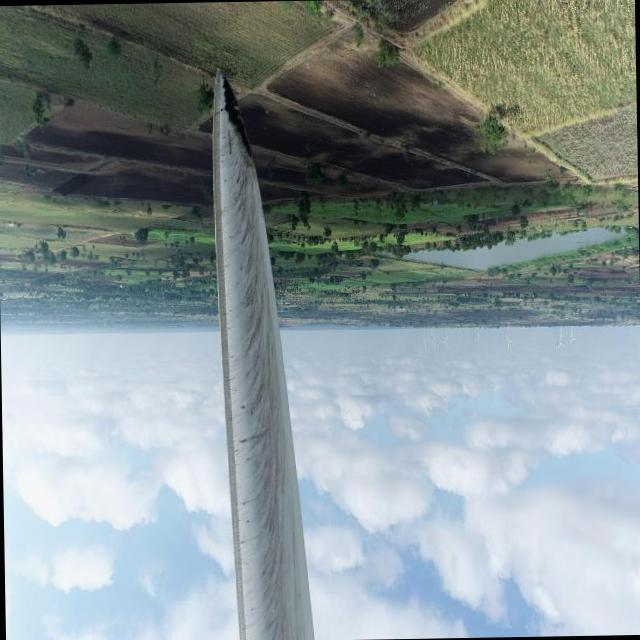Dirt: (215, 71, 319, 640)
Oil LEAKAGE: (220, 72, 258, 166)
Pin Hole: (221, 102, 234, 119)
